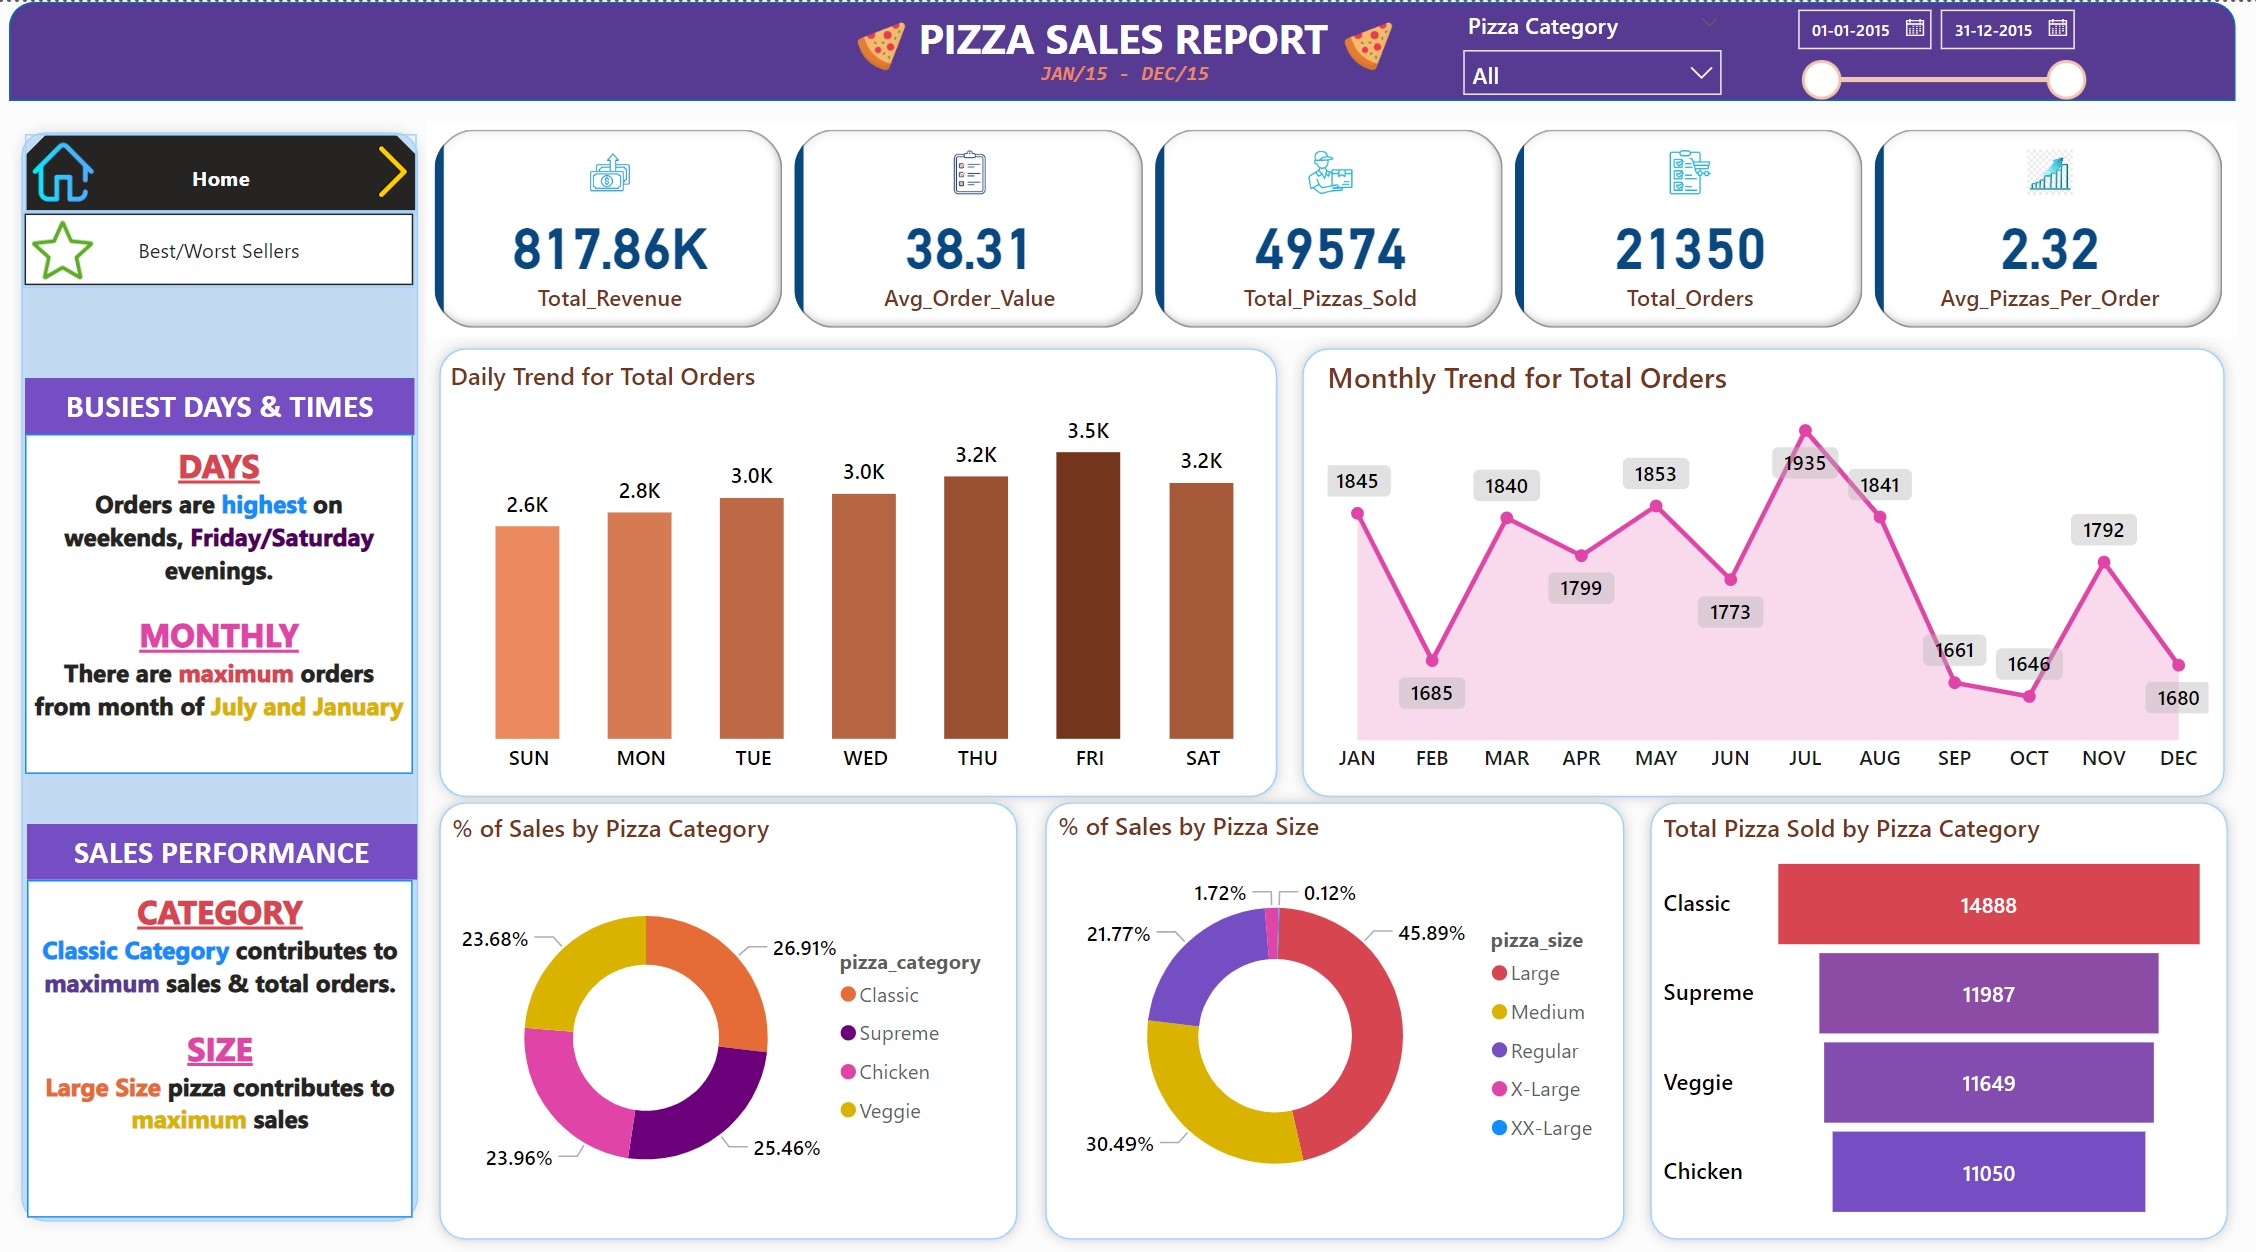

This screenshot's page, from the dashboard's own definition file:
{"tool":"powerbi","page":{"name":"Home","canvas":[1500,820],"ordinal":0},"visuals":[{"type":"shape","box":[19.4,77.7,276.4,730.6],"z":0},{"type":"cardVisual","fields":{"Data":["pizza_db pizza_sales.Total_Revenue","pizza_db pizza_sales.Avg_Order_Value","pizza_db pizza_sales.Total_Pizzas_Sold","pizza_db pizza_sales.Total_Orders","pizza_db pizza_sales.Avg_Pizzas_Per_Order"]},"box":[293.9,78.8,1186.4,140.9],"z":1000},{"type":"shape","box":[20,0,1460,65],"z":2000},{"type":"textbox","box":[590.9,0,319.7,48.5],"z":3000},{"type":"textbox","box":[662.1,31.8,177.3,34.8],"z":4000},{"type":"image","box":[560.6,7.6,63.6,42.4],"z":5000},{"type":"image","box":[878.8,7.6,63.6,42.4],"z":6000},{"type":"shape","box":[293.9,219.7,565.2,310.6],"z":7000},{"type":"columnChart","title":"Daily Trend for Total Orders","fields":{"Y":["pizza_db pizza_sales.Total_Orders"],"Category":["pizza_db pizza_sales.Order_Day"]},"box":[304.5,233.3,554.5,281.8],"z":8000},{"type":"shape","box":[859.1,219.7,621.2,310.6],"z":9000},{"type":"areaChart","title":"Monthly Trend for Total Orders","fields":{"Y":["pizza_db pizza_sales.Total_Orders"],"Category":["pizza_db pizza_sales.Order_Month"]},"box":[878.8,233.3,587.9,281.8],"z":10000},{"type":"shape","box":[1087.9,516.7,395,303],"z":11000},{"type":"shape","box":[690.9,516.7,395.5,303],"z":12000},{"type":"shape","box":[293.9,516.7,395.5,303],"z":13000},{"type":"donutChart","title":"% of Sales by Pizza Category","fields":{"Category":["pizza_db pizza_sales.pizza_category"],"Y":["pizza_db pizza_sales.Total_Revenue"]},"box":[306.1,530.3,372.7,277.3],"z":14000},{"type":"donutChart","title":"% of Sales by Pizza Size","fields":{"Y":["pizza_db pizza_sales.Total_Revenue"],"Category":["pizza_db pizza_sales.pizza_size"]},"box":[703,528.8,372.7,277.3],"z":15000},{"type":"funnel","title":"Total Pizza Sold by Pizza Category","fields":{"Y":["pizza_db pizza_sales.Total_Pizzas_Sold"],"Category":["pizza_db pizza_sales.pizza_category"]},"box":[1100,530.3,366.7,275.8],"z":16000},{"type":"textbox","box":[29.9,246.5,255.5,37.4],"z":17000},{"type":"textbox","box":[30.2,283.4,254.5,223],"z":18000},{"type":"textbox","box":[31.5,539.2,255.8,36.7],"z":19000},{"type":"textbox","box":[31.5,576,253.2,221.7],"z":20000},{"type":"slicer","fields":{"Values":["pizza_db pizza_sales.pizza_category"]},"box":[963.6,0,189.7,65.7],"z":21000},{"type":"slicer","fields":{"Values":["pizza_db pizza_sales.order_date"]},"box":[1184.8,0,200.2,65.7],"z":22000},{"type":"pageNavigator","box":[30.2,86.6,257.2,51.2],"z":22001},{"type":"pageNavigator","box":[28.9,137.8,257.2,49.9],"z":22002},{"type":"image","box":[249.3,86.6,44.6,49.9],"z":22003},{"type":"image","box":[26.2,86.6,57.7,49.9],"z":22004},{"type":"image","box":[28.9,137.8,52.5,49.9],"z":22005}]}

Visuals, with their boxes on the page's 1500x820 design canvas (x1, y1, x2, y2). These are canvas units, not pixel positions in the 2256x1252 screenshot, which may show the page scaled, cropped or inside an application window:
shape: rect(19, 78, 296, 808)
cardVisual - pizza_db pizza_sales.Total_Revenue x pizza_db pizza_sales.Avg_Order_Value: rect(294, 79, 1480, 220)
shape: rect(20, 0, 1480, 65)
textbox: rect(591, 0, 911, 48)
textbox: rect(662, 32, 839, 67)
image: rect(561, 8, 624, 50)
image: rect(879, 8, 942, 50)
shape: rect(294, 220, 859, 530)
"Daily Trend for Total Orders" columnChart: rect(304, 233, 859, 515)
shape: rect(859, 220, 1480, 530)
"Monthly Trend for Total Orders" areaChart: rect(879, 233, 1467, 515)
shape: rect(1088, 517, 1483, 820)
shape: rect(691, 517, 1086, 820)
shape: rect(294, 517, 689, 820)
"% of Sales by Pizza Category" donutChart: rect(306, 530, 679, 808)
"% of Sales by Pizza Size" donutChart: rect(703, 529, 1076, 806)
"Total Pizza Sold by Pizza Category" funnel: rect(1100, 530, 1467, 806)
textbox: rect(30, 246, 285, 284)
textbox: rect(30, 283, 285, 506)
textbox: rect(32, 539, 287, 576)
textbox: rect(32, 576, 285, 798)
slicer - pizza_db pizza_sales.pizza_category: rect(964, 0, 1153, 66)
slicer - pizza_db pizza_sales.order_date: rect(1185, 0, 1385, 66)
pageNavigator: rect(30, 87, 287, 138)
pageNavigator: rect(29, 138, 286, 188)
image: rect(249, 87, 294, 136)
image: rect(26, 87, 84, 136)
image: rect(29, 138, 81, 188)
